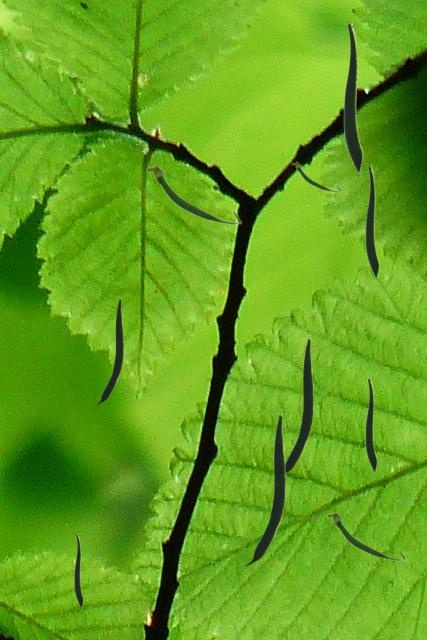french_bean: (243, 414, 284, 565), (145, 164, 241, 224), (326, 511, 405, 560), (285, 338, 312, 474), (94, 298, 122, 404), (343, 21, 362, 172), (291, 161, 340, 191), (365, 164, 378, 277), (365, 377, 376, 471), (74, 533, 82, 607)
